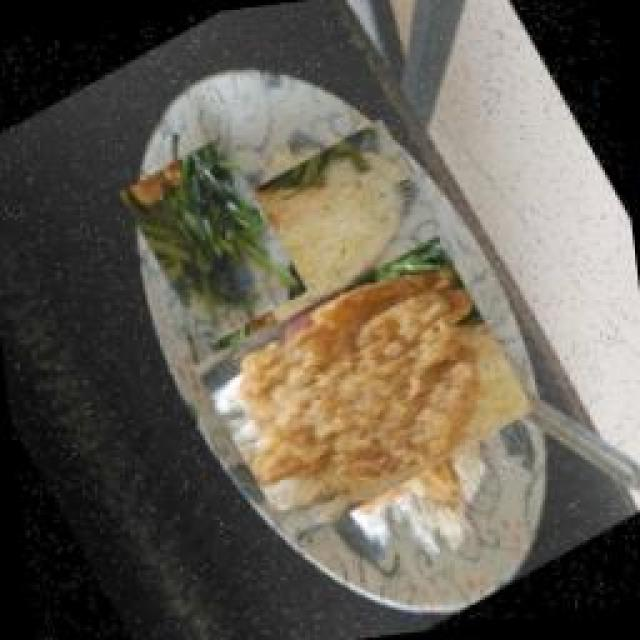Wet Waste: (187, 212, 535, 560), (212, 105, 442, 335), (112, 127, 312, 355)
